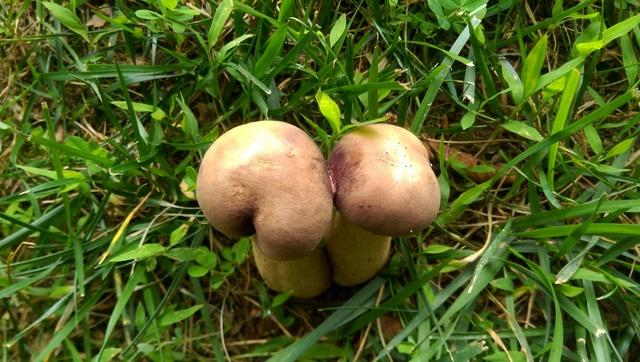poisonous_mushroom: (195, 118, 334, 261), (326, 122, 441, 237)
